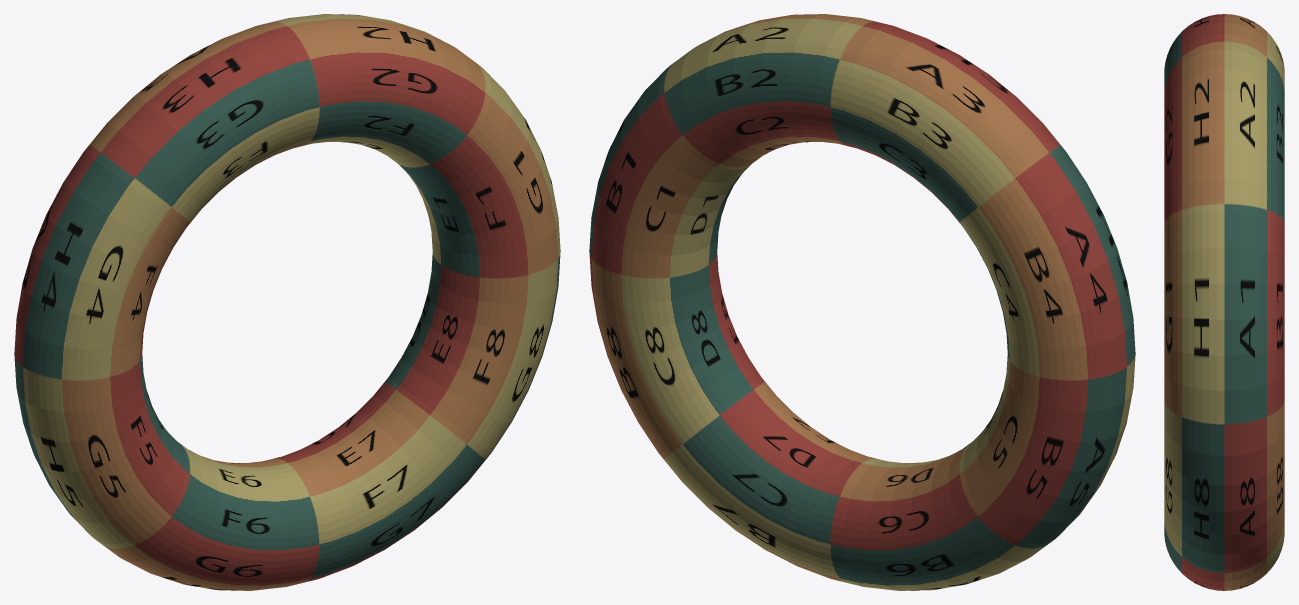
Rendered from texture_torus_R22_r17.glb.
3 renders of one model, left to right at view 1: azimuth 30°, elevation 25°; view 2: azimuth 150°, elevation 25°; view 3: azimuth 270°, elevation 25°, orthographic. The views are drawn at different scales.
Visible parts, largest first — view 1: world; view 2: world; view 3: world.
Part boxes in pixels (x1,y1,x2,y2): world: [14, 14, 560, 590]; world: [589, 14, 1135, 590]; world: [1164, 14, 1284, 590].
Bounding box in the file's own units: 31.2 × 31.14 × 6.52.
Materials: 1 (1 with a texture image).
